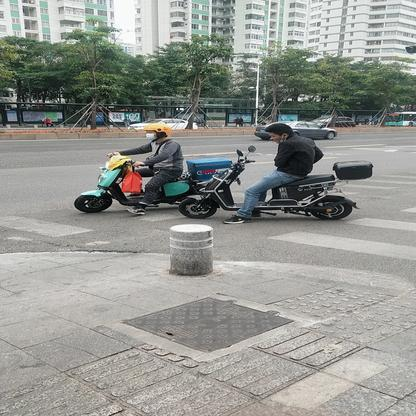target: (179, 121, 374, 227), (71, 117, 231, 218)
